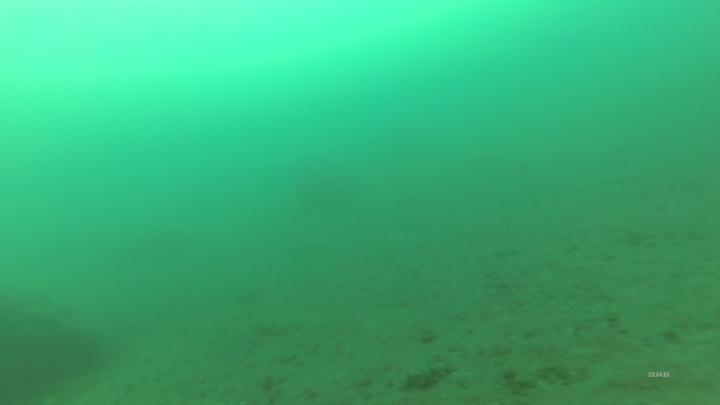holothurian: (403, 358, 456, 392)
